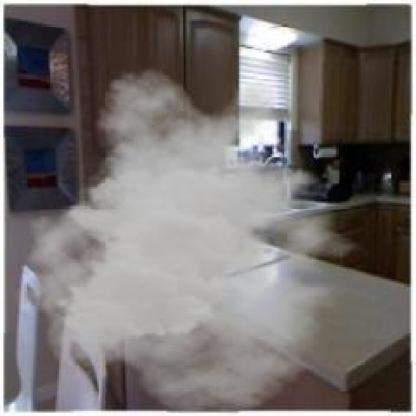Smoke: (14, 67, 378, 415)
